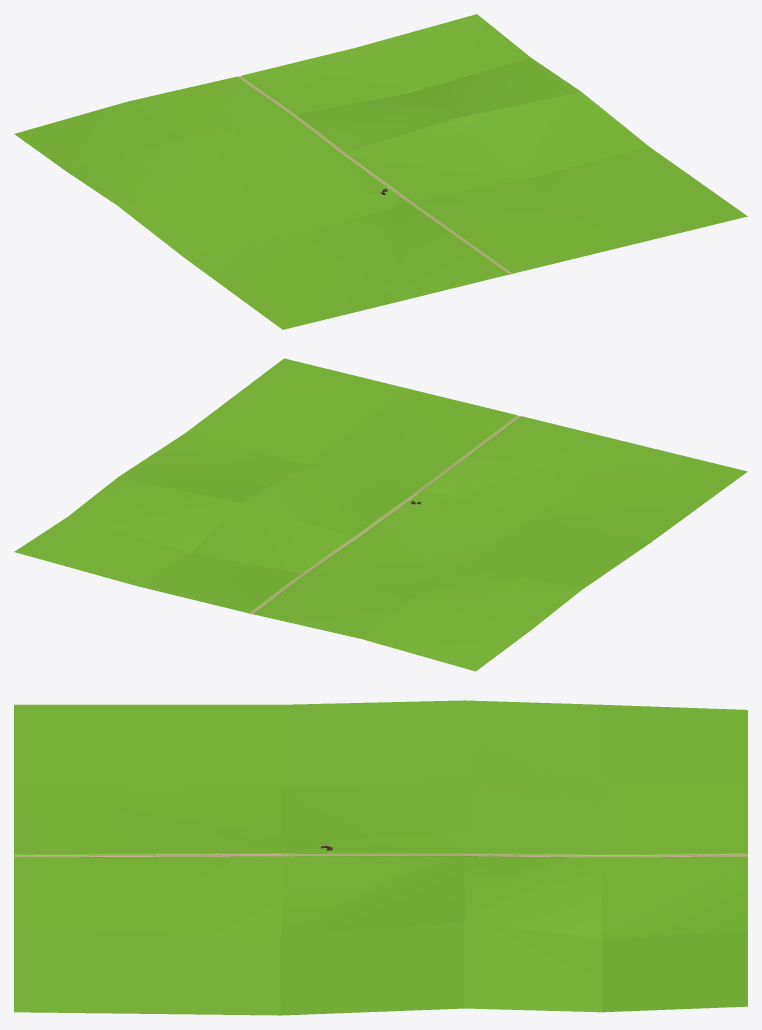
File: CutsceneBackground.FBX
3 renders of one model, top to bottom at view 1: azimuth 30°, elevation 25°; view 2: azimuth 150°, elevation 25°; view 3: azimuth 270°, elevation 25°, orthographic. The views are drawn at different scales.
Visible parts, largest first — view 1: BCutscene; view 2: BCutscene; view 3: BCutscene.
Boxes of the visible parts, x1=… form: BCutscene: x1=14, y1=14, x2=747, y2=329; BCutscene: x1=14, y1=358, x2=747, y2=671; BCutscene: x1=14, y1=700, x2=747, y2=1015.
Bounding box in the file's own units: 3133 × 3161 × 82.96.
